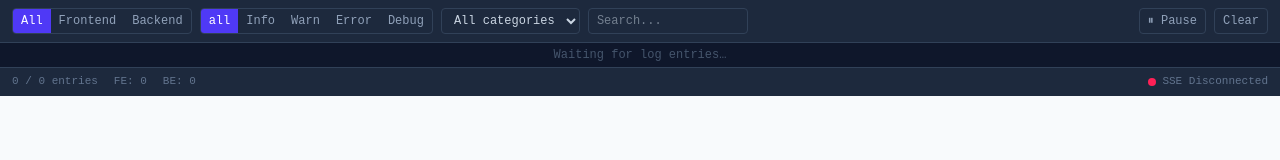
DevLogs page › toggles pause state
Step 1. Click the button "⏸ Pause" → {"x": 1172, "y": 21}, box [1139,8,1206,34]
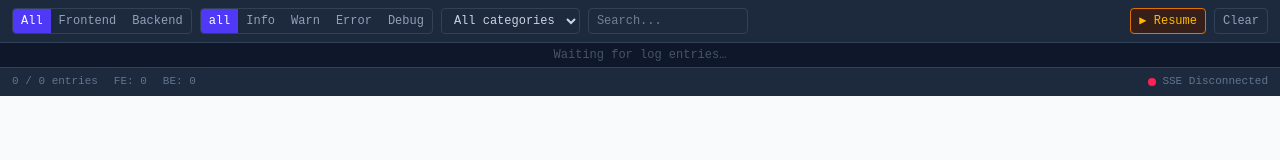
Check: the button "▶ Resume" is shown, box [1130,8,1206,34]
